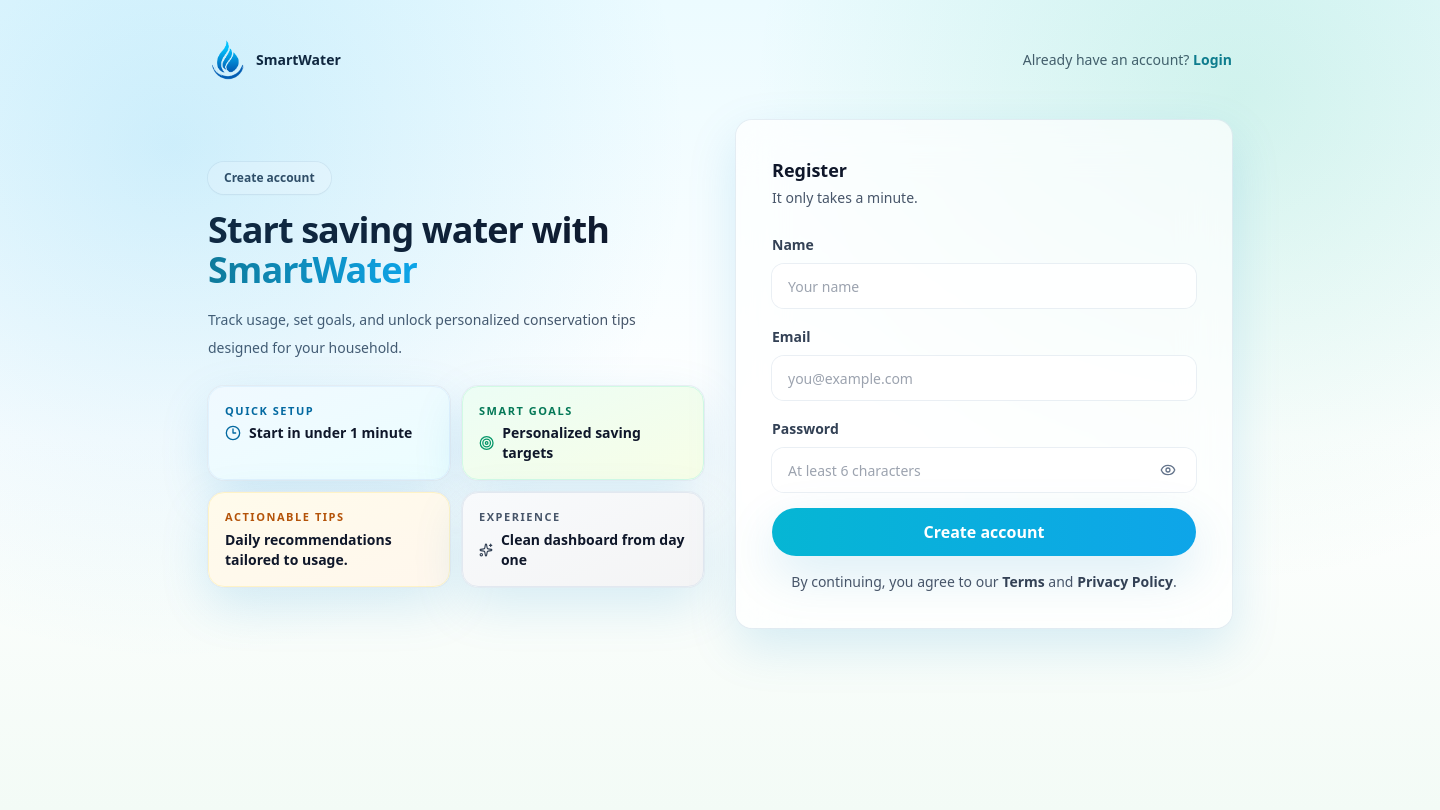
Test: shows backend error when registration fails
Type "Test User" into the field with placeholder "Your name".
click(984, 286); type("Test User")  # box x1=772 y1=264 x2=1196 y2=308
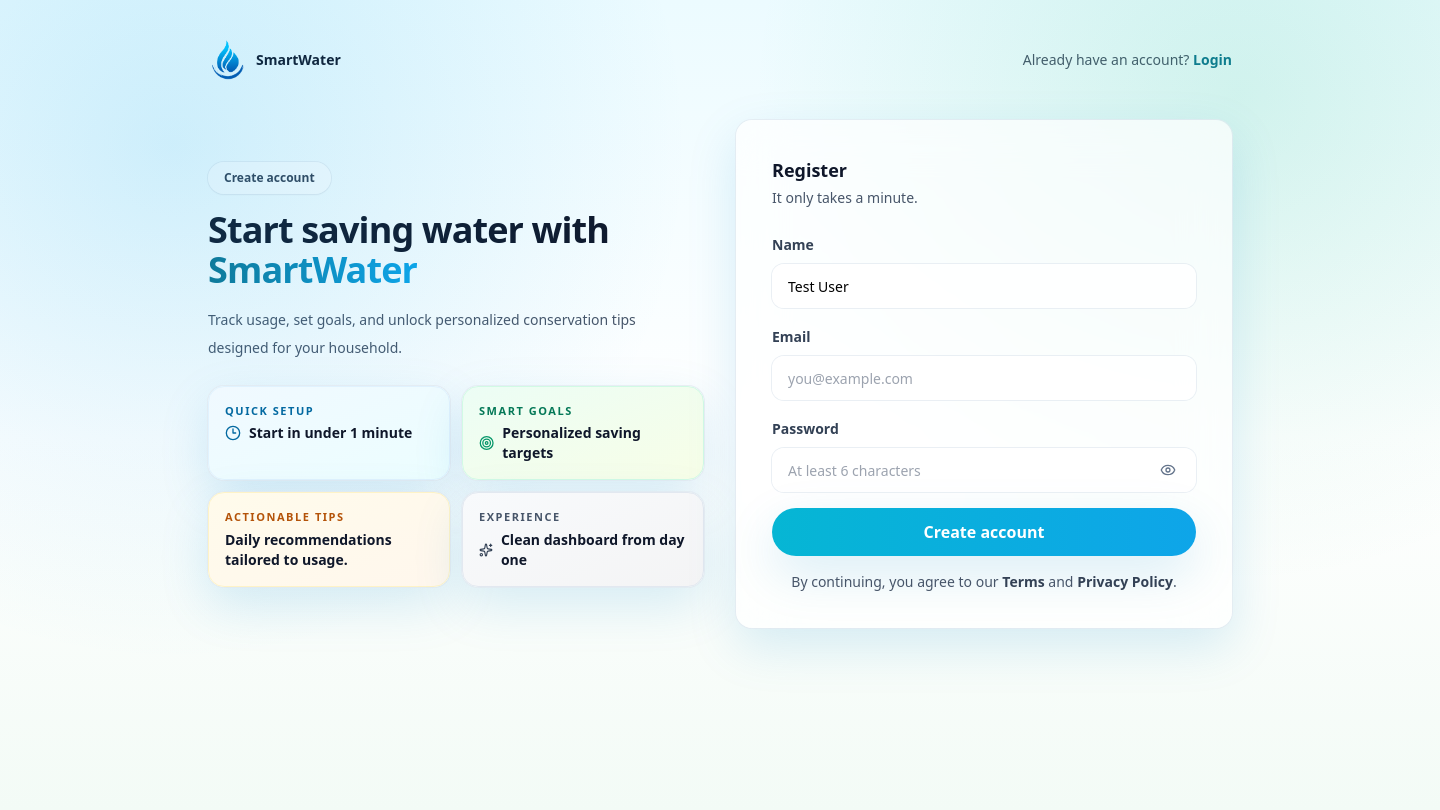
Type "taken@example.com" into the field with placeholder "you@example.com".
click(984, 378); type("taken@example.com")  # box x1=772 y1=356 x2=1196 y2=400
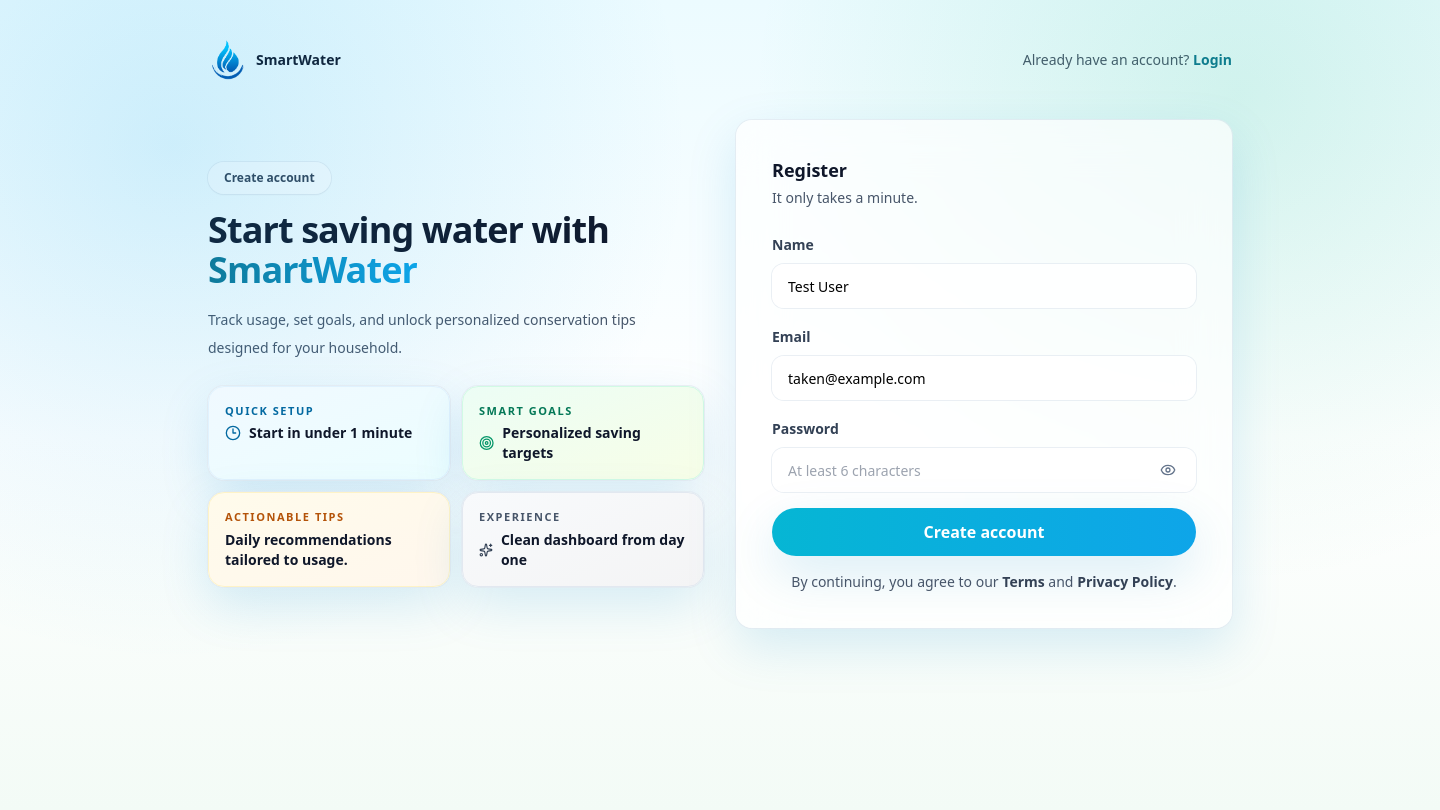
Type "secret123" into the password field with placeholder "At least 6 characters".
click(984, 470); type("secret123")  # box x1=772 y1=448 x2=1196 y2=492
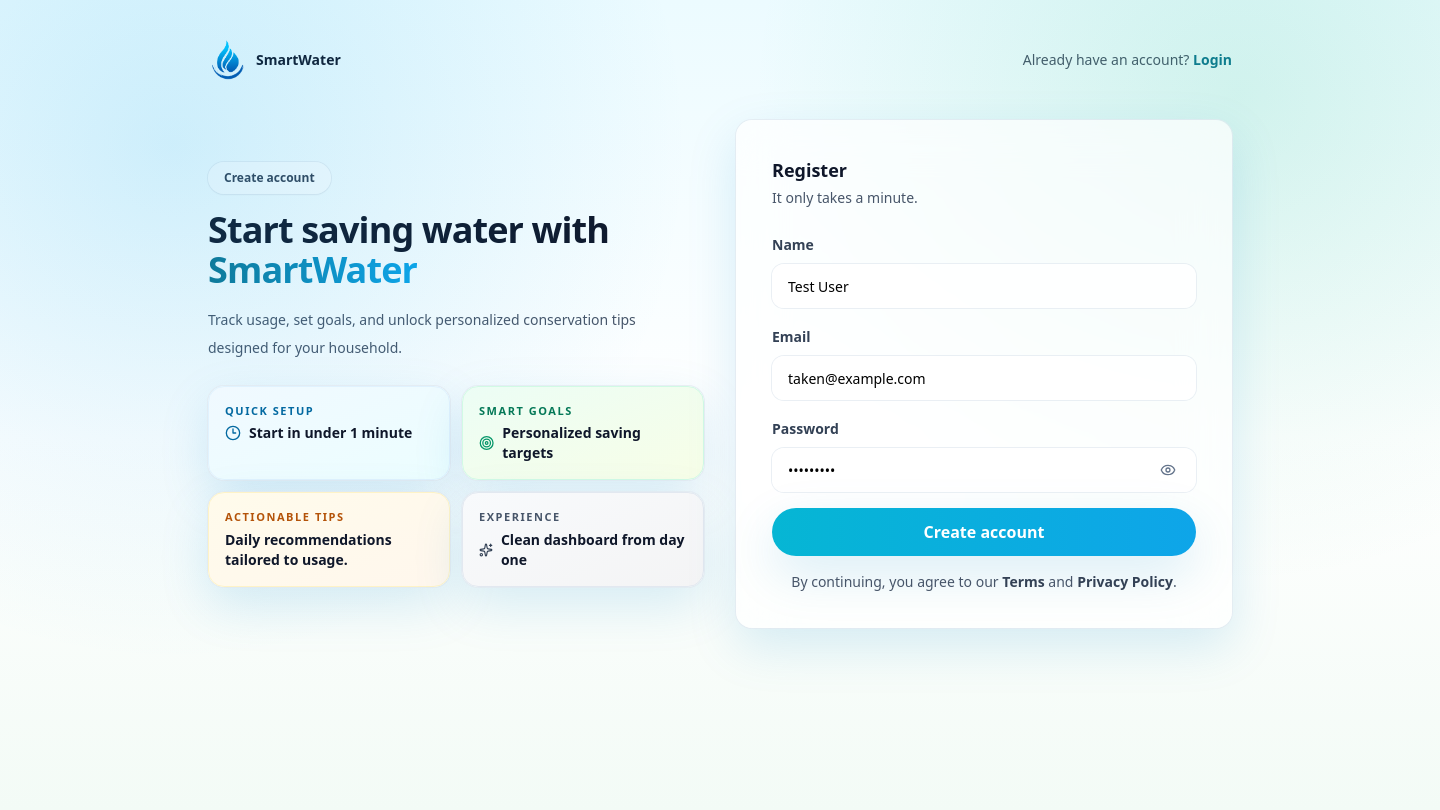
Click the button "Create account".
click(984, 532)  # box x1=772 y1=508 x2=1196 y2=556
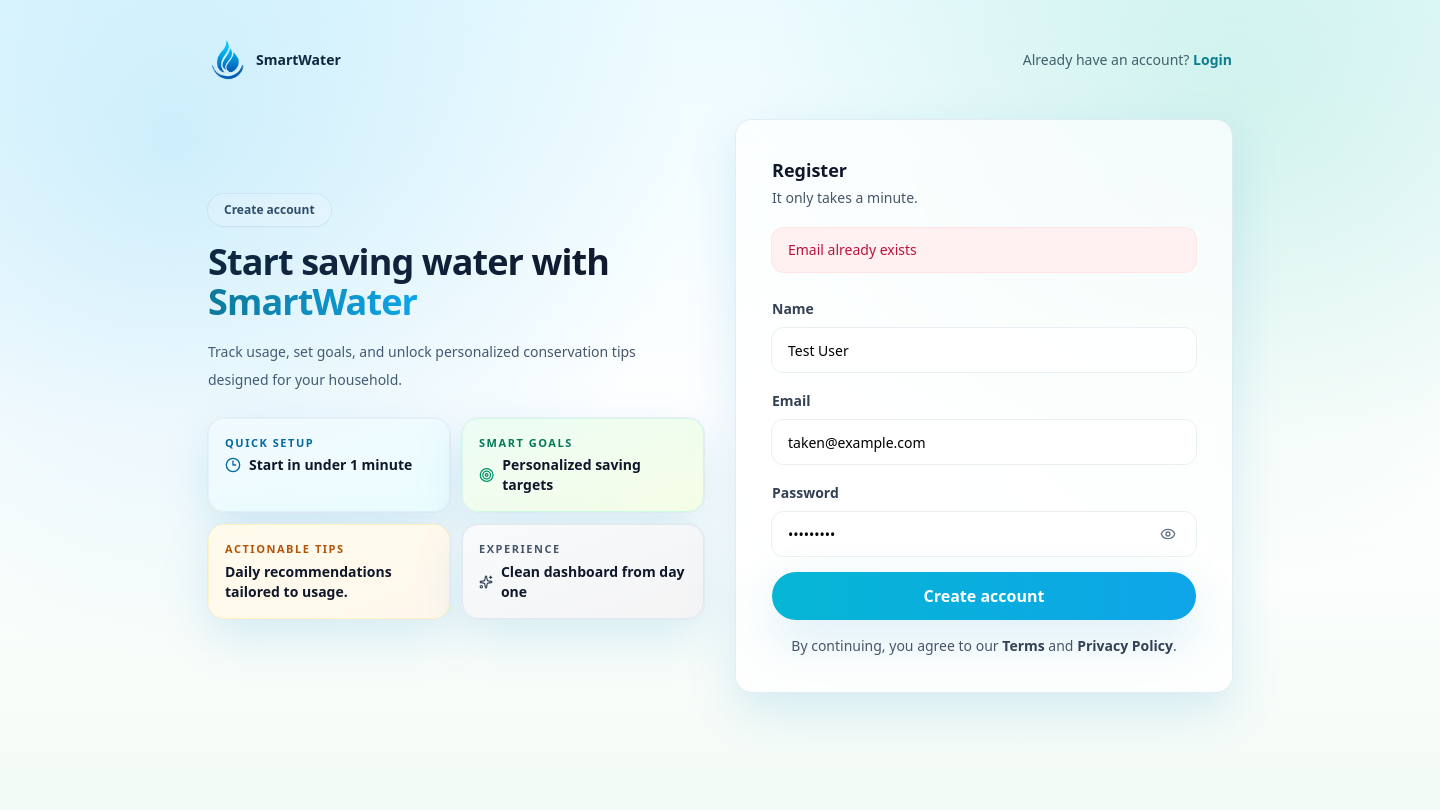
Check: the text "Email already exists" is shown, box x1=772 y1=228 x2=1196 y2=272
